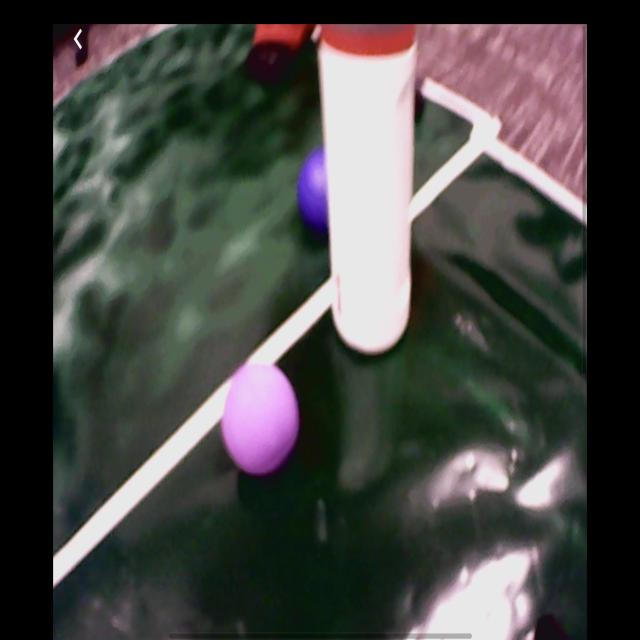ball: (223, 362, 299, 477), (298, 150, 329, 231)
